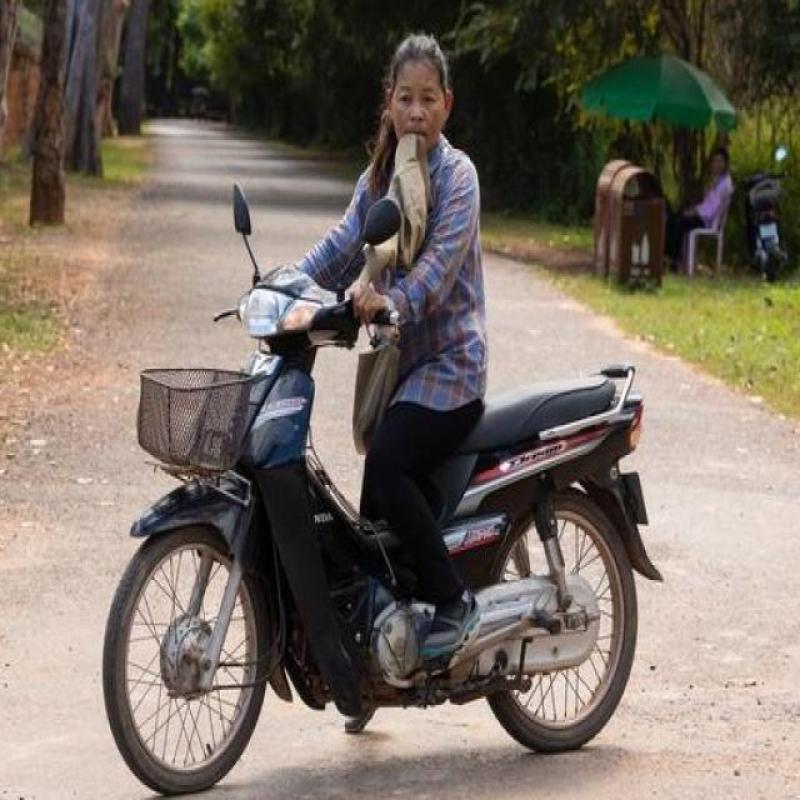nohelmet: (382, 26, 470, 170)
